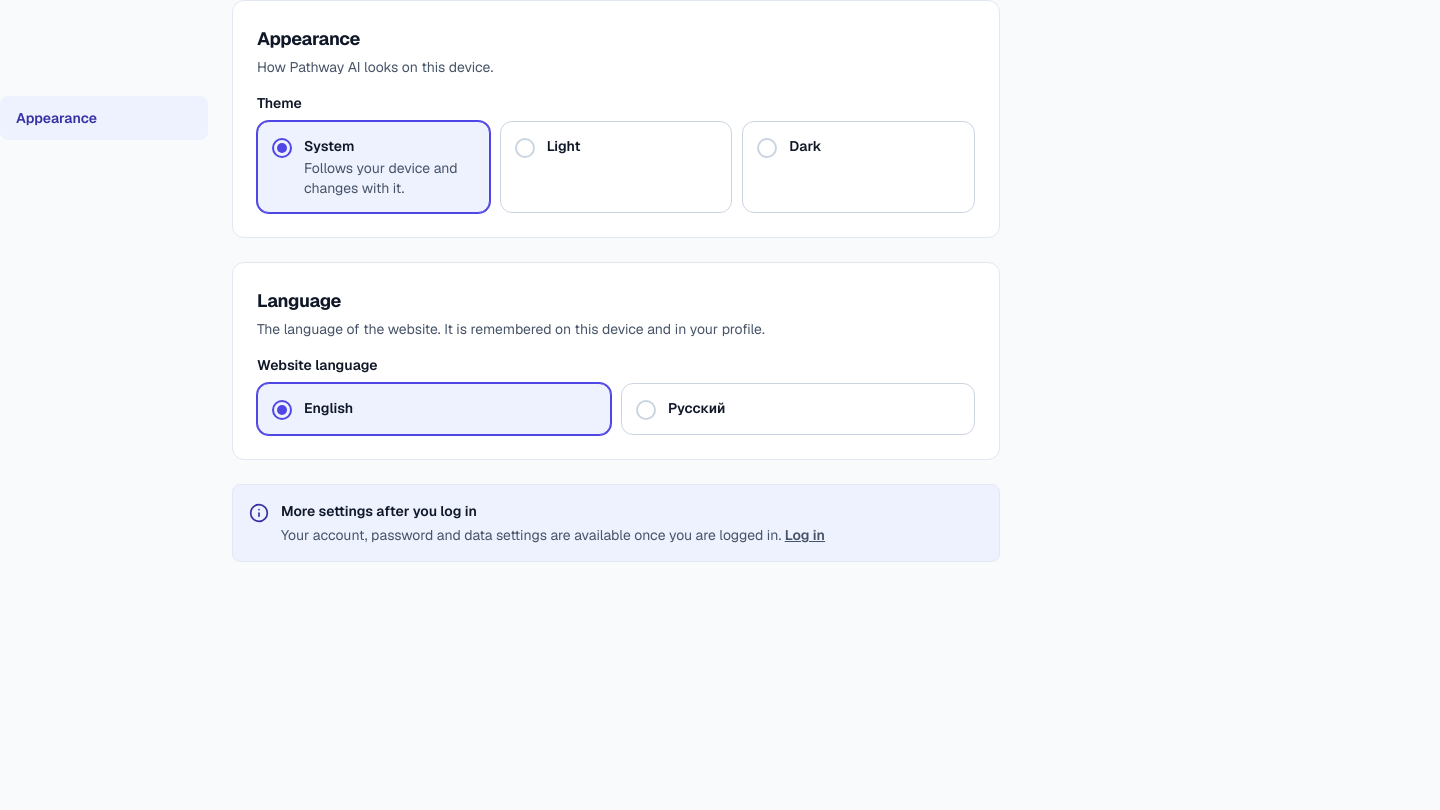
Test case: Settings for a visitor › remembers an explicit choice and lets the language be switched to Russian
The image size is (1440, 810).
Click the radio button labelled "Dark".
click(859, 167)  # box [742,121,975,213]
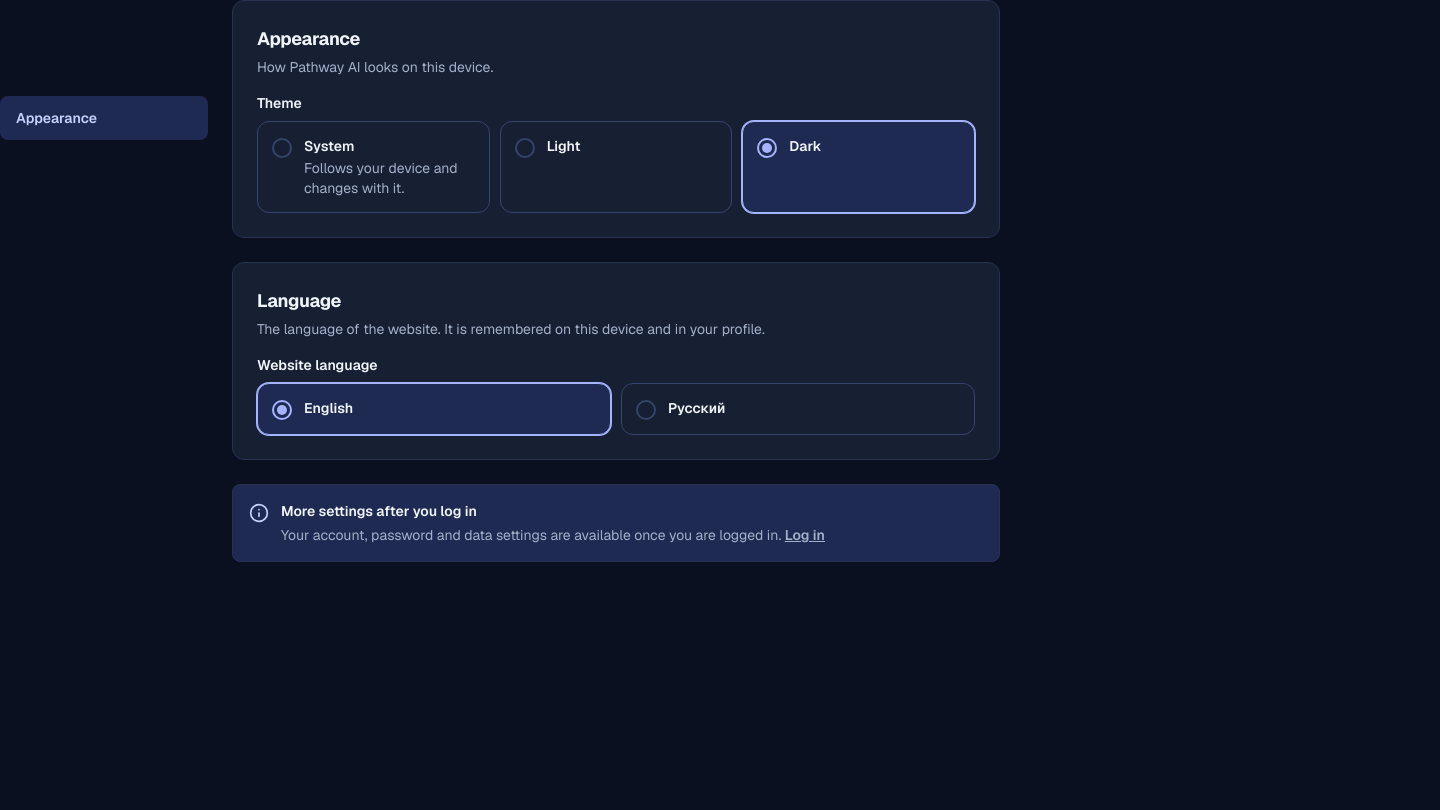
Click the radio button labelled "Русский".
click(697, 408)  # box [621,383,975,435]
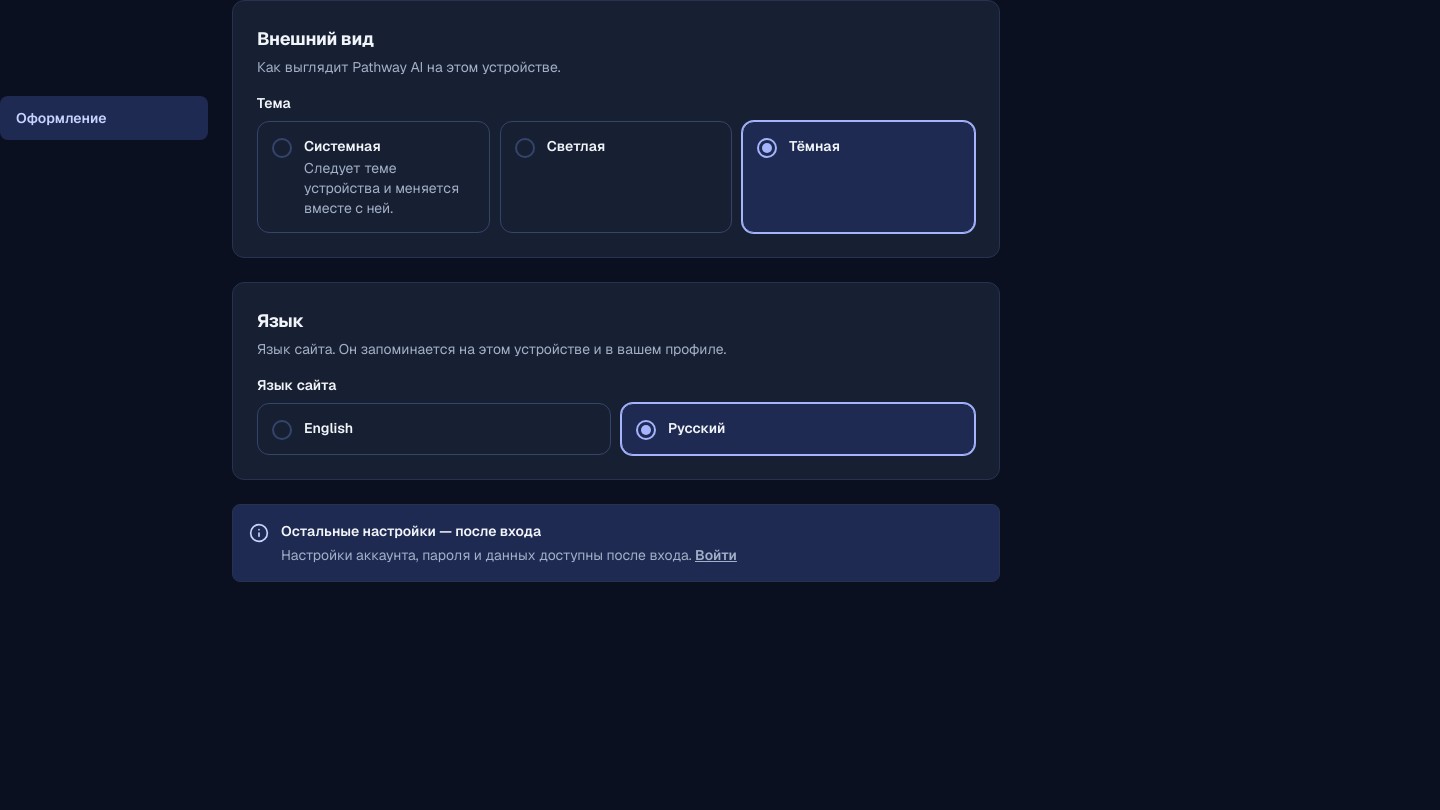
Expected: the heading "Внешний вид" is shown, [257,27,374,50]
